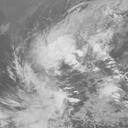cyclone: (17, 22, 106, 94)
